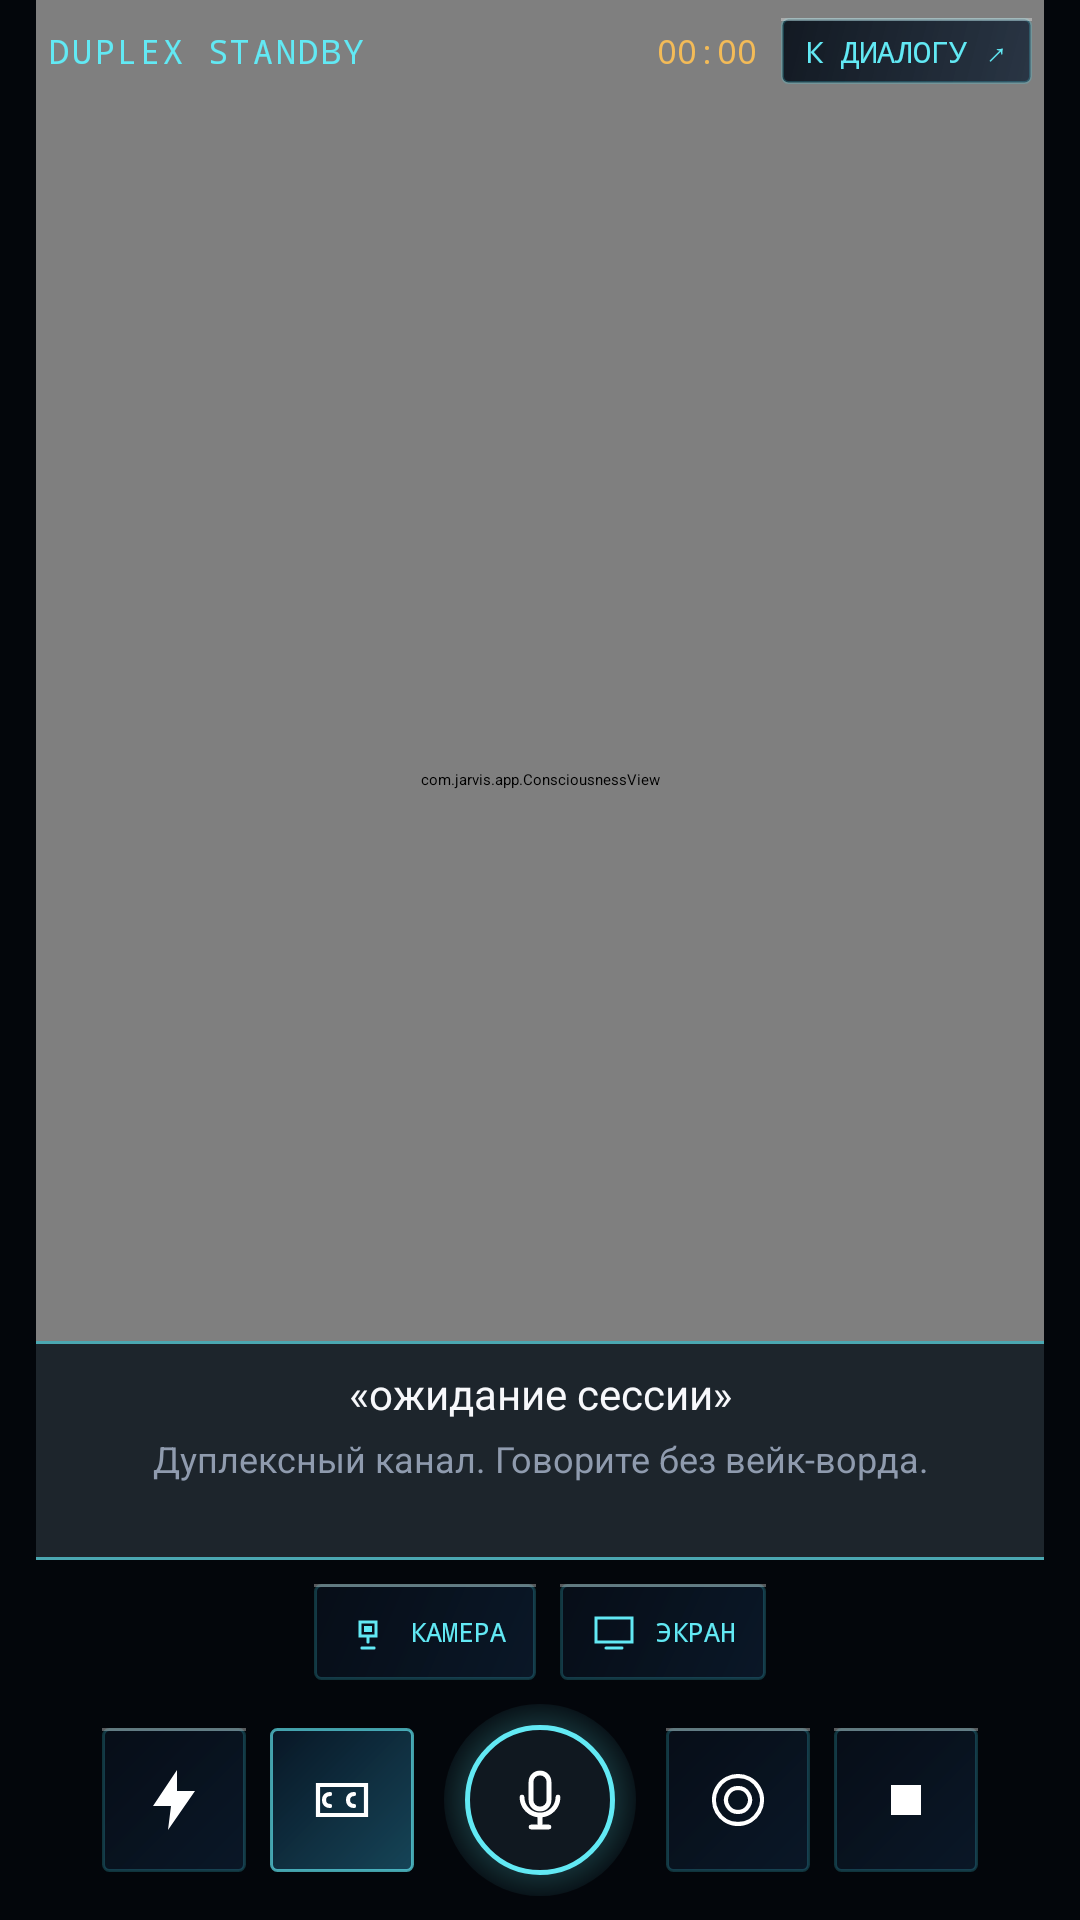

Screen size 1080 x 1920. Icon name, then its box in pixels as [x1=x1, y1=y1, x2=x2, y2=y2]:
Завершить: [x1=834, y1=1728, x2=978, y2=1872]
Прервать речь: [x1=102, y1=1728, x2=246, y2=1872]
Свернуть в орб: [x1=666, y1=1728, x2=810, y2=1872]
Субтитры: [x1=270, y1=1728, x2=414, y2=1872]
